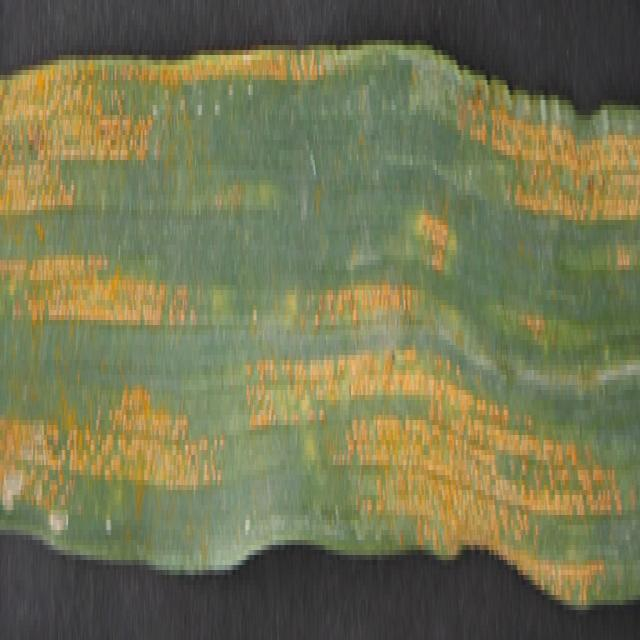leaf rust: (1, 15, 638, 590)
